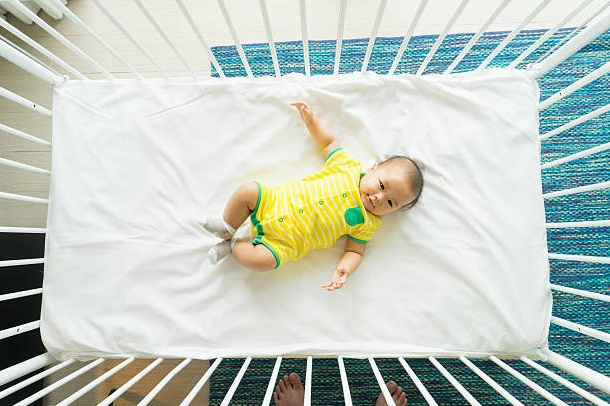baby: (203, 102, 422, 290)
crib: (0, 0, 609, 403)
